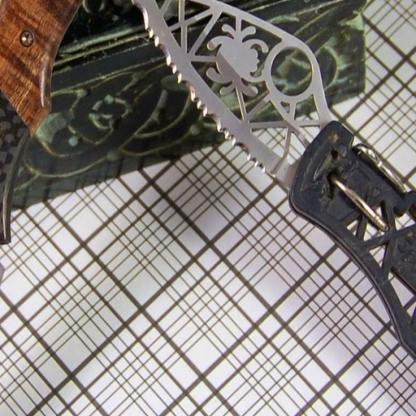knife: (126, 0, 415, 415), (0, 0, 180, 415)
